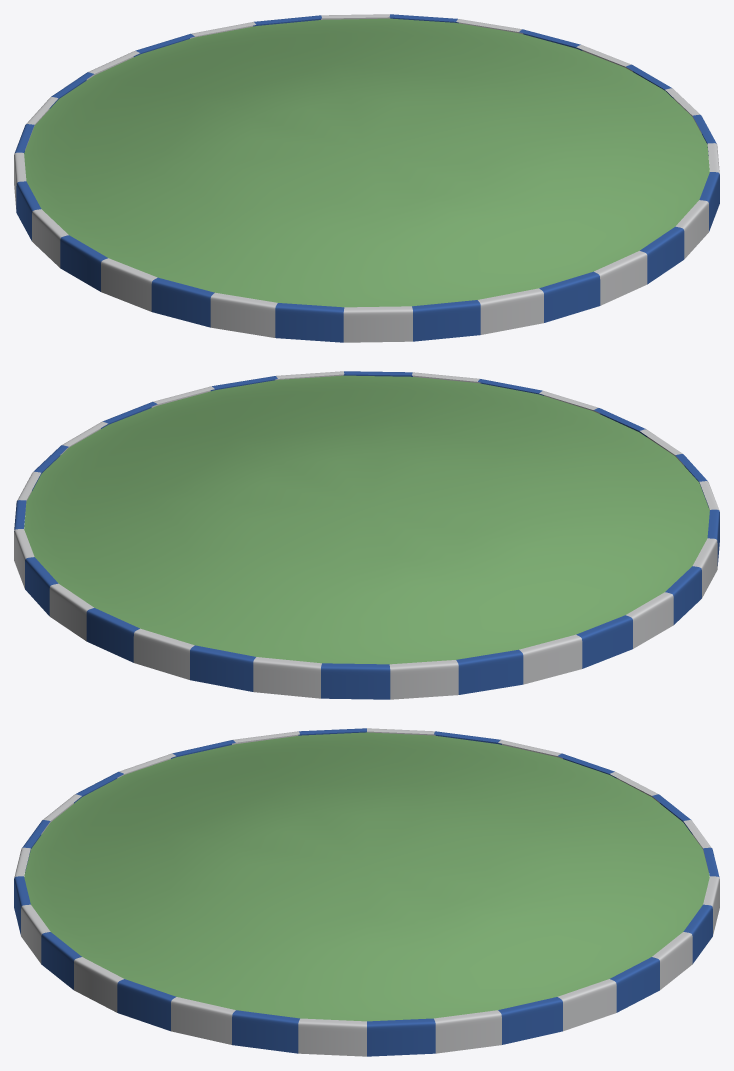
File: RounDabout.fbx
3 renders of one model, top to bottom at view 1: azimuth 30°, elevation 25°; view 2: azimuth 150°, elevation 25°; view 3: azimuth 270°, elevation 25°, orthographic.
Parts seen in each view (by area): view 1: polySurface1, polySurface2; view 2: polySurface1, polySurface2; view 3: polySurface1, polySurface2.
Boxes of the visible parts, left/top/right/bottom form: polySurface1: left=24, top=18, right=709, bottom=307; polySurface2: left=14, top=14, right=719, bottom=342; polySurface1: left=24, top=375, right=709, bottom=664; polySurface2: left=14, top=371, right=719, bottom=699; polySurface1: left=24, top=732, right=709, bottom=1021; polySurface2: left=14, top=728, right=719, bottom=1056.
Bounding box in the file's own units: 20.83 × 1.4 × 20.83.
